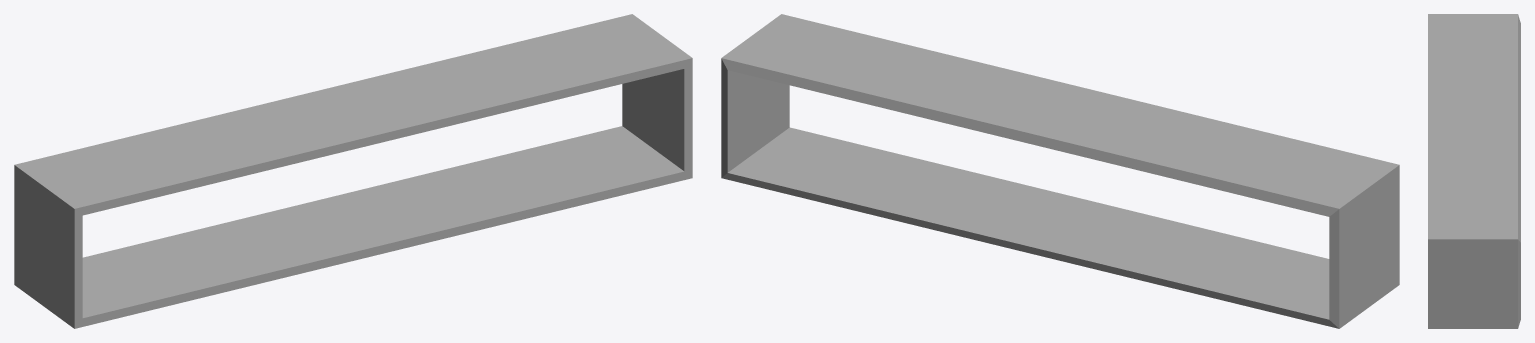
The model's file is Television_Mesa.fbx.
3 views of the same model, side by side, from view 1: azimuth 30°, elevation 25°; view 2: azimuth 150°, elevation 25°; view 3: azimuth 270°, elevation 25° (orthographic). The views are drawn at different scales.
Parts seen in each view (by area): view 1: Television_Mesa; view 2: Television_Mesa; view 3: Television_Mesa.
Boxes of the visible parts, x1,y1,x2,y2 form: Television_Mesa: (14, 14, 692, 328); Television_Mesa: (721, 14, 1399, 328); Television_Mesa: (1428, 14, 1520, 328).
Bounding box in the file's own units: 130 × 24.06 × 22.58.
